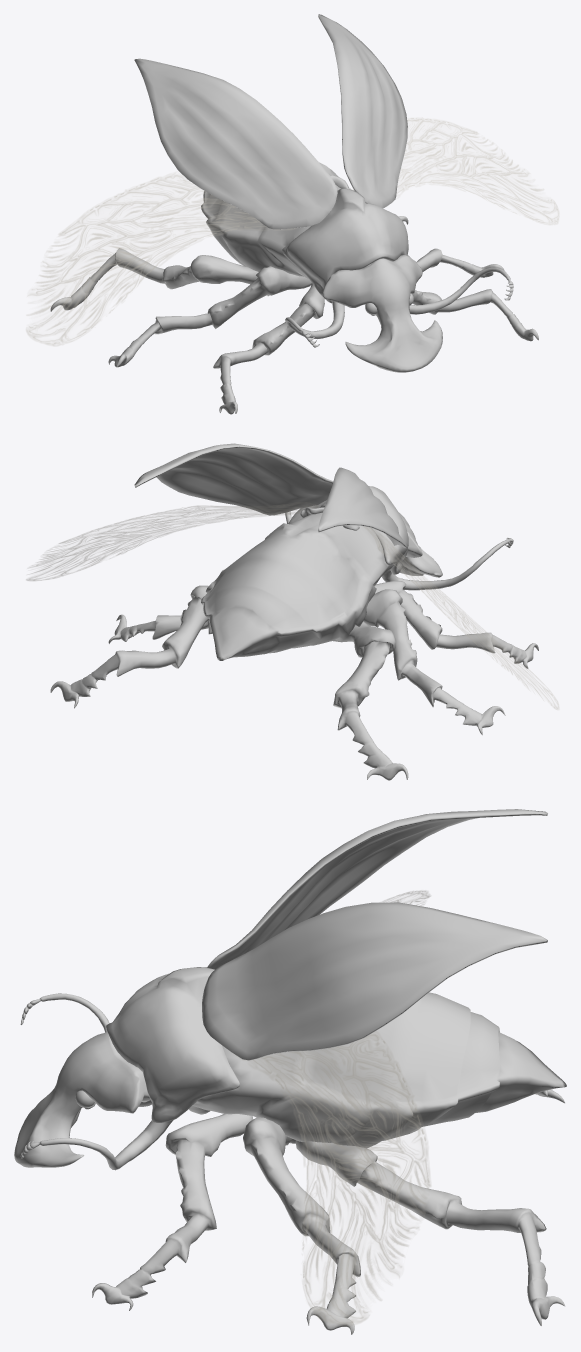
3 views of the same model, one above another, from view 1: azimuth 30°, elevation 25°; view 2: azimuth 150°, elevation 25°; view 3: azimuth 270°, elevation 25° (orthographic). The views are drawn at different scales.
Parts seen in each view (by area): view 1: Wings_low1, Wings_low, Legs_low, Head_low, Thorax_low, Abdomen_low, Antenna_low; view 2: Abdomen_low, Legs_low, Wings_low1, Wings_low, Thorax_low, Antenna_low, Head_low; view 3: Wings_low1, Abdomen_low, Legs_low, Wings_low, Thorax_low, Head_low, Antenna_low.
Boxes of the visible parts, x1,y1,x2,y2 form: Wings_low1: (134, 14, 407, 229); Wings_low: (26, 117, 559, 346); Legs_low: (50, 216, 538, 414); Head_low: (322, 255, 442, 372); Thorax_low: (282, 188, 408, 303); Abdomen_low: (201, 162, 371, 278); Antenna_low: (285, 267, 513, 339); Abdomen_low: (201, 512, 394, 660); Legs_low: (50, 569, 538, 780); Wings_low1: (134, 443, 407, 547); Wings_low: (26, 502, 558, 709); Thorax_low: (288, 486, 408, 574); Antenna_low: (285, 511, 512, 590); Head_low: (398, 512, 442, 577); Wings_low1: (202, 809, 547, 1060); Abdomen_low: (192, 992, 566, 1148); Legs_low: (92, 1089, 565, 1334); Wings_low: (252, 890, 430, 1325); Thorax_low: (106, 967, 239, 1122); Head_low: (14, 1031, 150, 1167); Antenna_low: (30, 993, 173, 1170).
Size of the model in its own units: 2 by 0.8594 by 1.25.
